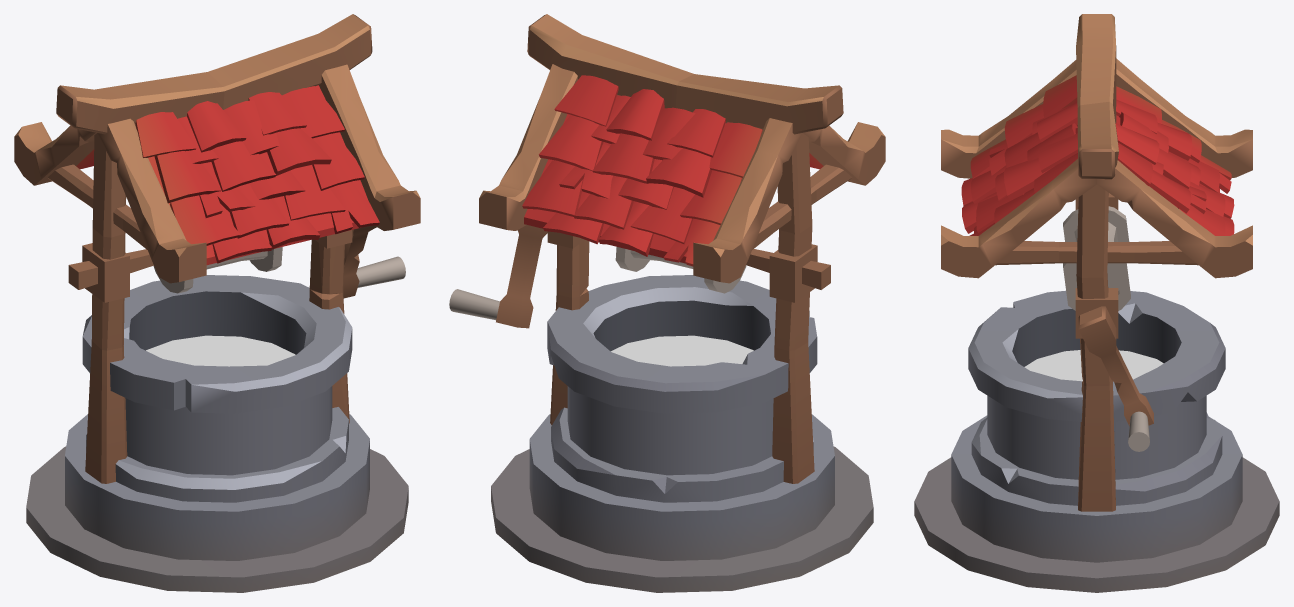
Rendered from Puits.fbx.
3 renders of one model, left to right at view 1: azimuth 30°, elevation 25°; view 2: azimuth 150°, elevation 25°; view 3: azimuth 270°, elevation 25°, orthographic. The views are drawn at different scales.
Visible parts, largest first — view 1: Cube.001; view 2: Cube.001; view 3: Cube.001.
Part boxes in pixels (x1=…): Cube.001: x1=14, y1=14, x2=420, y2=592; Cube.001: x1=449, y1=14, x2=885, y2=592; Cube.001: x1=914, y1=14, x2=1279, y2=592.
Size of the model in its own units: 301 by 353 by 270.
